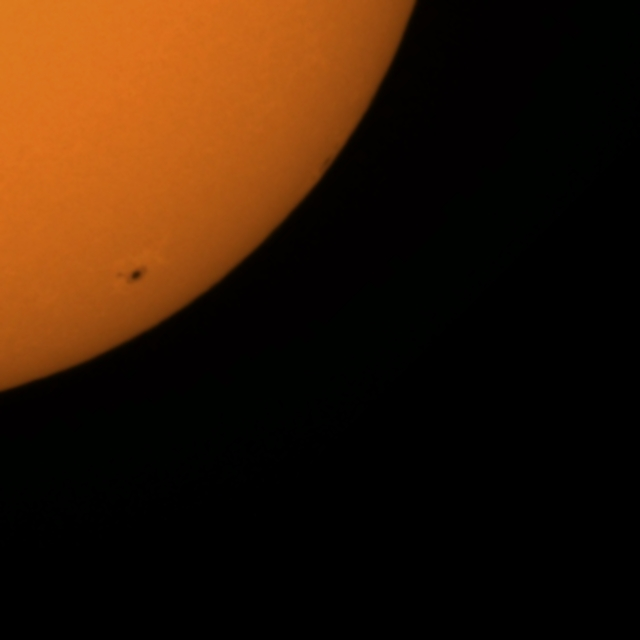sunspot: (113, 265, 150, 287)
